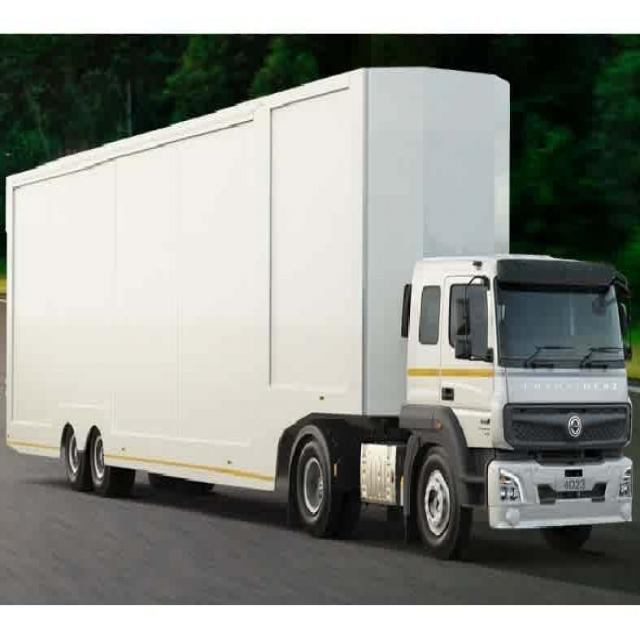Truck: (5, 67, 631, 550)
